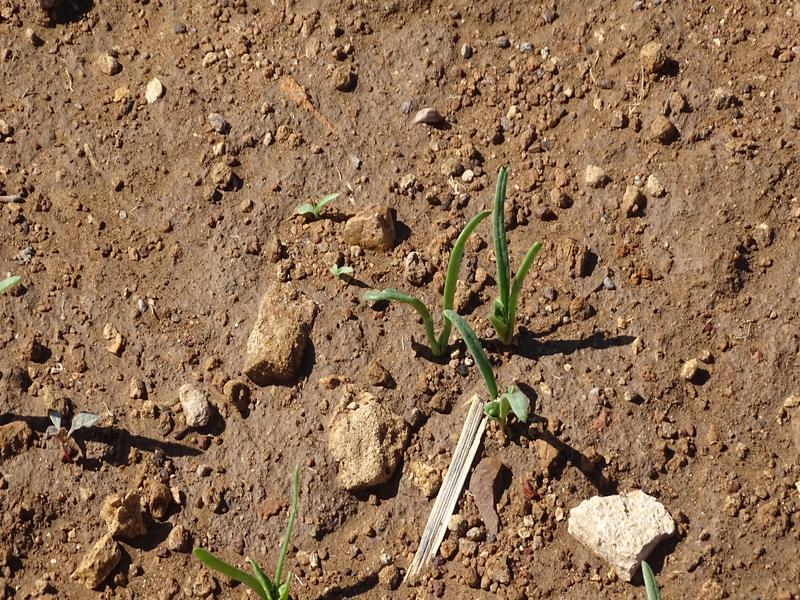Espinaca: (378, 167, 555, 429), (211, 465, 317, 596)
